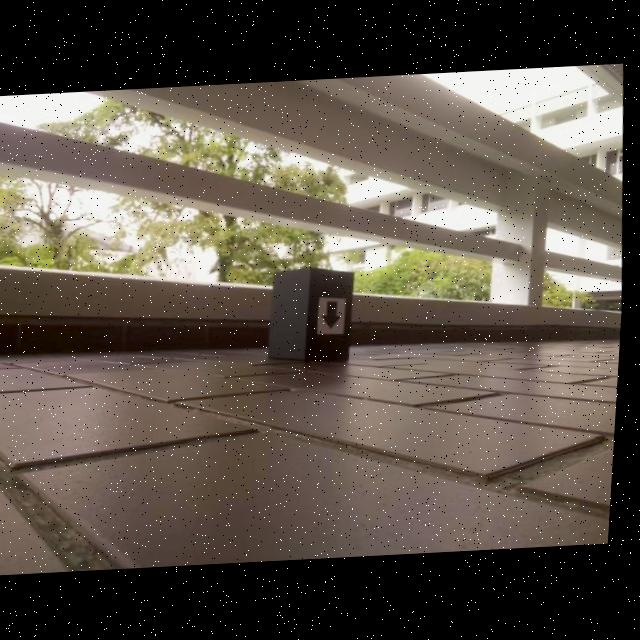DOWN: (324, 300, 346, 330)
